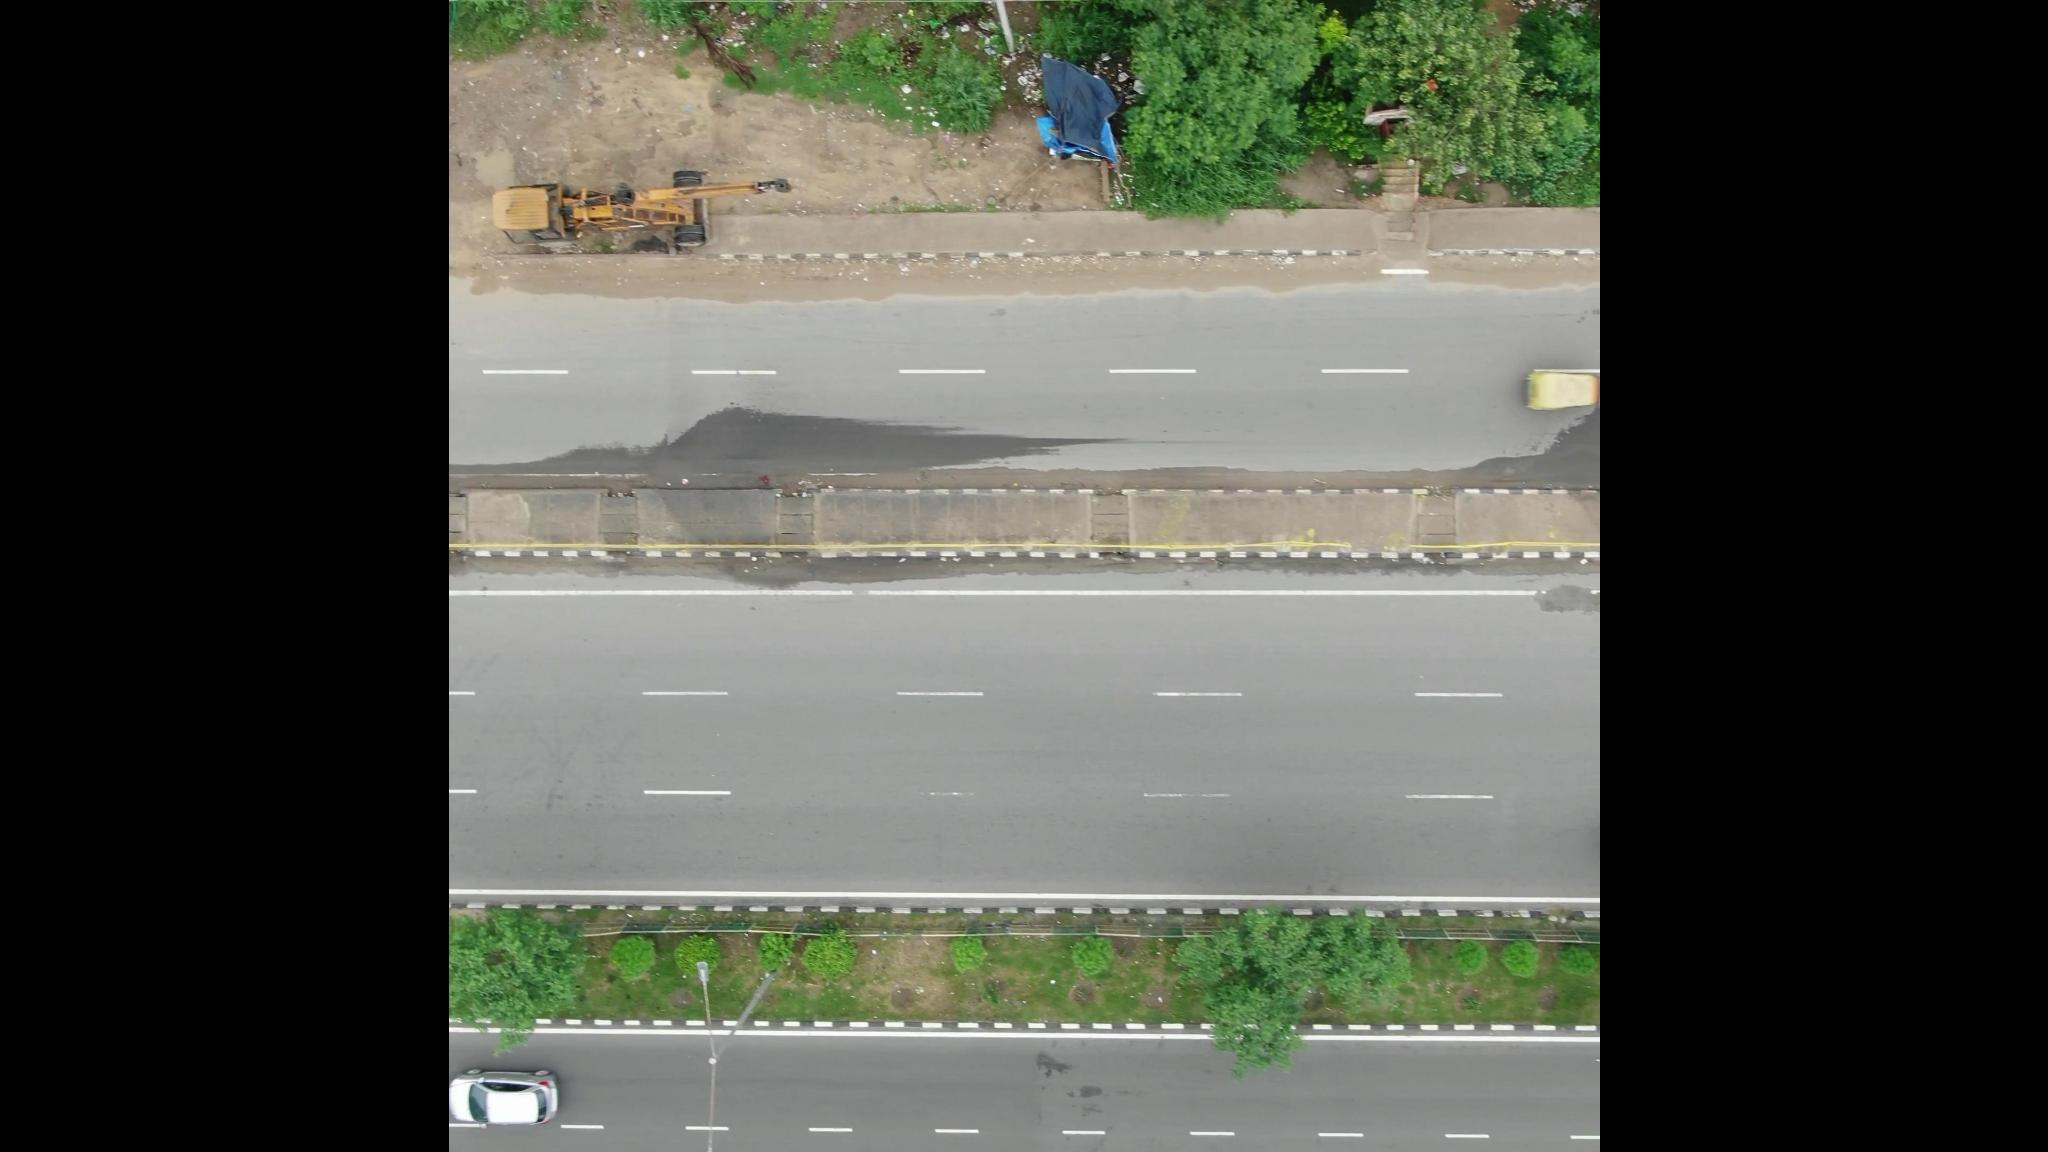Muddy_road: (879, 249, 1364, 304), (474, 252, 859, 309), (1438, 255, 1599, 295)
